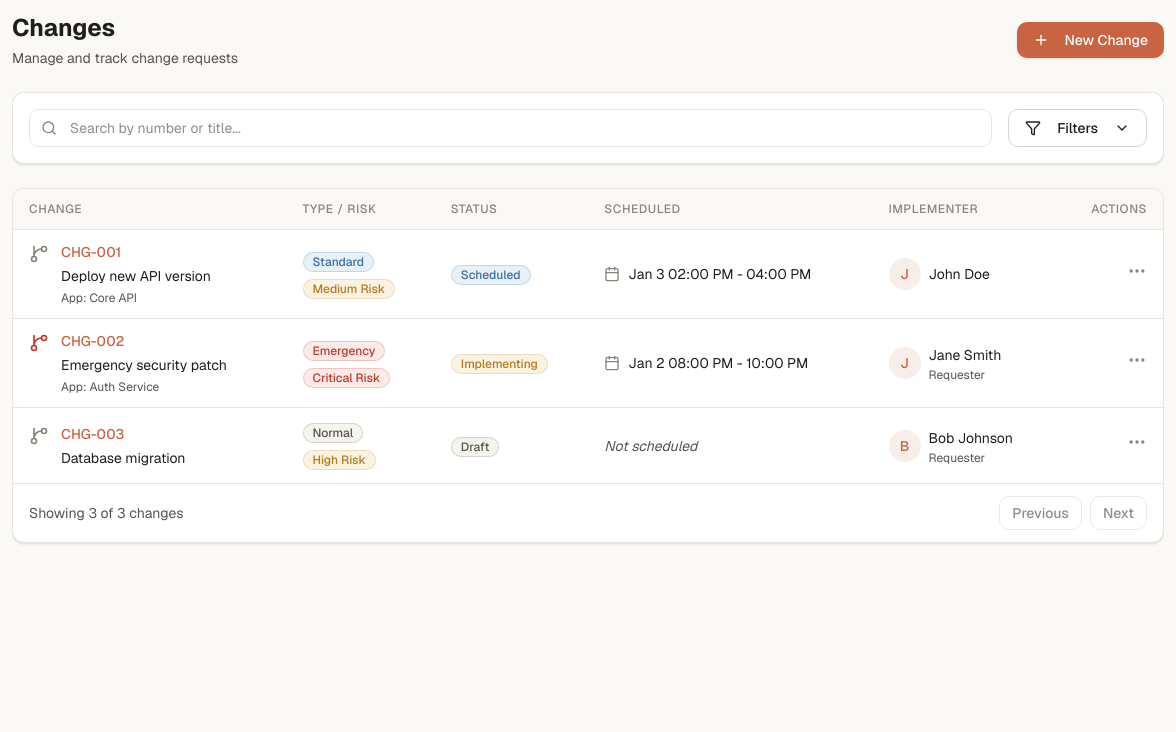
Scenario: ChangesPage › Search Functionality › filters changes by change number
The width and height of the screenshot is (1176, 732).
Type "CHG-001" into the field with placeholder "Search by number or title..." at (511, 128), box [29, 109, 992, 147]
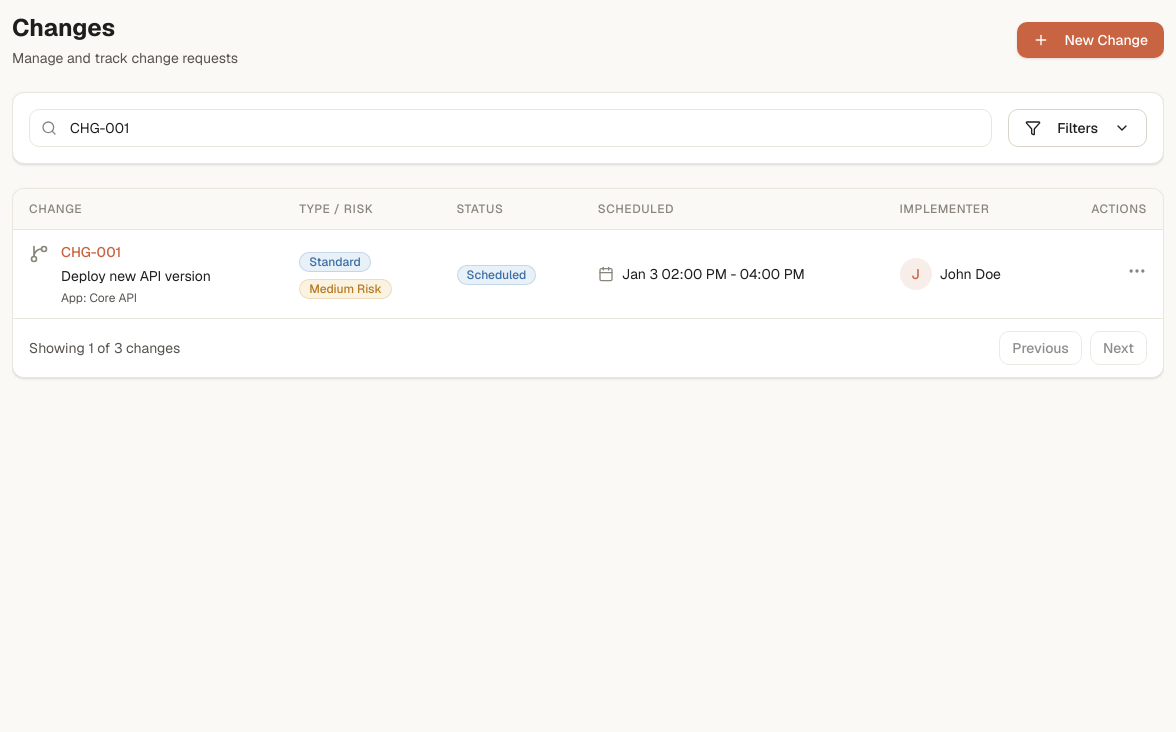
Expected: the link "CHG-001" is shown, [61, 242, 121, 262]
Result: the link "CHG-002" is gone
Result: the link "CHG-003" is gone
